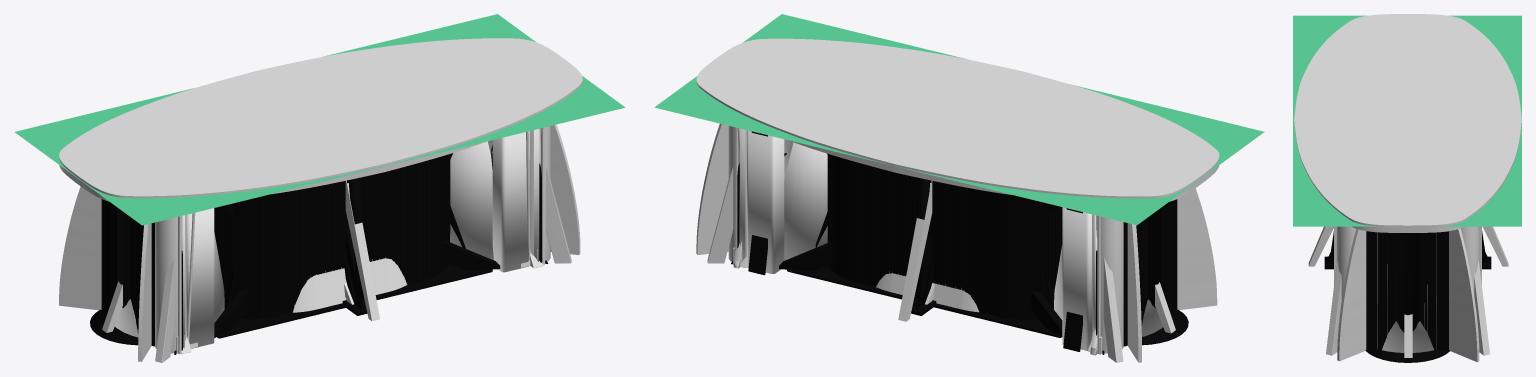
Rendered from DanishOval.glb.
The picture shows the model from 3 angles, left to right: view 1: azimuth 30°, elevation 25°; view 2: azimuth 150°, elevation 25°; view 3: azimuth 270°, elevation 25°; orthographic projection. The views are drawn at different scales.
Parts seen in each view (by area): view 1: Danish Oval _ Table top, Danish Oval _Fluted - WOOD_240, Rectangle003, Danish Oval _Pilaar - WOOD_240, Danish Oval _Schuin 2.5 - WOOD_240, Danish Oval _Conisch_240.001, Danish Oval _Pillars - WOOD_240, Danish Oval _Double fluted - WOOD_240.001, Danish Oval _Column in middle - WOOD_240, Danish Oval _Diagonal Pole_240, Danish Oval _Flat Dining V_240.002, Danish Oval _Klassiek Midden - WOOD_240 (+8 smaller); view 2: Danish Oval _ Table top, Danish Oval _Fluted - WOOD_240, Rectangle003, Danish Oval _Pilaar - WOOD_240, Danish Oval _Schuin 2.5 - WOOD_240, Danish Oval _Conisch_240.001, Danish Oval _Double fluted - WOOD_240.001, Danish Oval _Pillars - WOOD_240, Danish Oval _Diagonal Pole_240, Danish Oval _Klassiek Midden - WOOD_240, Danish Oval _Kolom Rod_240.001, Danish Oval _Flat Dining V_240.002 (+6 smaller); view 3: Danish Oval _ Table top, Rectangle003, Danish Oval _Double fluted - WOOD_240.001, Danish Oval _Schuin 2.5 - WOOD_240, Danish Oval _Kolom Rod_240.001, Danish Oval _Diagonal Pole_240, Danish Oval _Pillars - WOOD_240, Danish Oval _Conisch_240.001, Danish Oval _Klassiek Midden - WOOD_240, Danish Oval _Walrus_240.
Boxes of the visible parts, x1,y1,x2,y2 form: Danish Oval _ Table top: [59, 38, 582, 201]; Danish Oval _Fluted - WOOD_240: [214, 154, 450, 319]; Rectangle003: [15, 14, 625, 225]; Danish Oval _Pilaar - WOOD_240: [186, 131, 529, 348]; Danish Oval _Schuin 2.5 - WOOD_240: [59, 124, 580, 361]; Danish Oval _Conisch_240.001: [115, 141, 493, 337]; Danish Oval _Pillars - WOOD_240: [155, 126, 550, 353]; Danish Oval _Double fluted - WOOD_240.001: [101, 199, 154, 346]; Danish Oval _Column in middle - WOOD_240: [293, 257, 407, 312]; Danish Oval _Diagonal Pole_240: [155, 167, 571, 362]; Danish Oval _Flat Dining V_240.002: [217, 153, 492, 338]; Danish Oval _Klassiek Midden - WOOD_240: [102, 180, 379, 332]; Danish Oval _ Table top: [696, 38, 1219, 201]; Danish Oval _Fluted - WOOD_240: [827, 154, 1062, 320]; Rectangle003: [654, 14, 1264, 225]; Danish Oval _Pilaar - WOOD_240: [747, 130, 1092, 350]; Danish Oval _Schuin 2.5 - WOOD_240: [696, 123, 1217, 362]; Danish Oval _Conisch_240.001: [784, 142, 1162, 336]; Danish Oval _Double fluted - WOOD_240.001: [1123, 199, 1177, 346]; Danish Oval _Pillars - WOOD_240: [728, 126, 1123, 353]; Danish Oval _Diagonal Pole_240: [707, 167, 1123, 362]; Danish Oval _Klassiek Midden - WOOD_240: [898, 181, 1175, 333]; Danish Oval _Kolom Rod_240.001: [1142, 208, 1188, 345]; Danish Oval _Flat Dining V_240.002: [787, 153, 1061, 337]; Danish Oval _ Table top: [1294, 14, 1521, 232]; Rectangle003: [1293, 15, 1521, 226]; Danish Oval _Double fluted - WOOD_240.001: [1366, 231, 1448, 349]; Danish Oval _Schuin 2.5 - WOOD_240: [1337, 228, 1479, 362]; Danish Oval _Kolom Rod_240.001: [1365, 233, 1449, 362]; Danish Oval _Diagonal Pole_240: [1326, 260, 1489, 355]; Danish Oval _Pillars - WOOD_240: [1336, 226, 1479, 299]; Danish Oval _Conisch_240.001: [1377, 264, 1436, 352]; Danish Oval _Klassiek Midden - WOOD_240: [1308, 226, 1508, 357]; Danish Oval _Walrus_240: [1334, 226, 1481, 285].
Bounding box in the file's own units: 2.41 × 0.7712 × 1.1.
